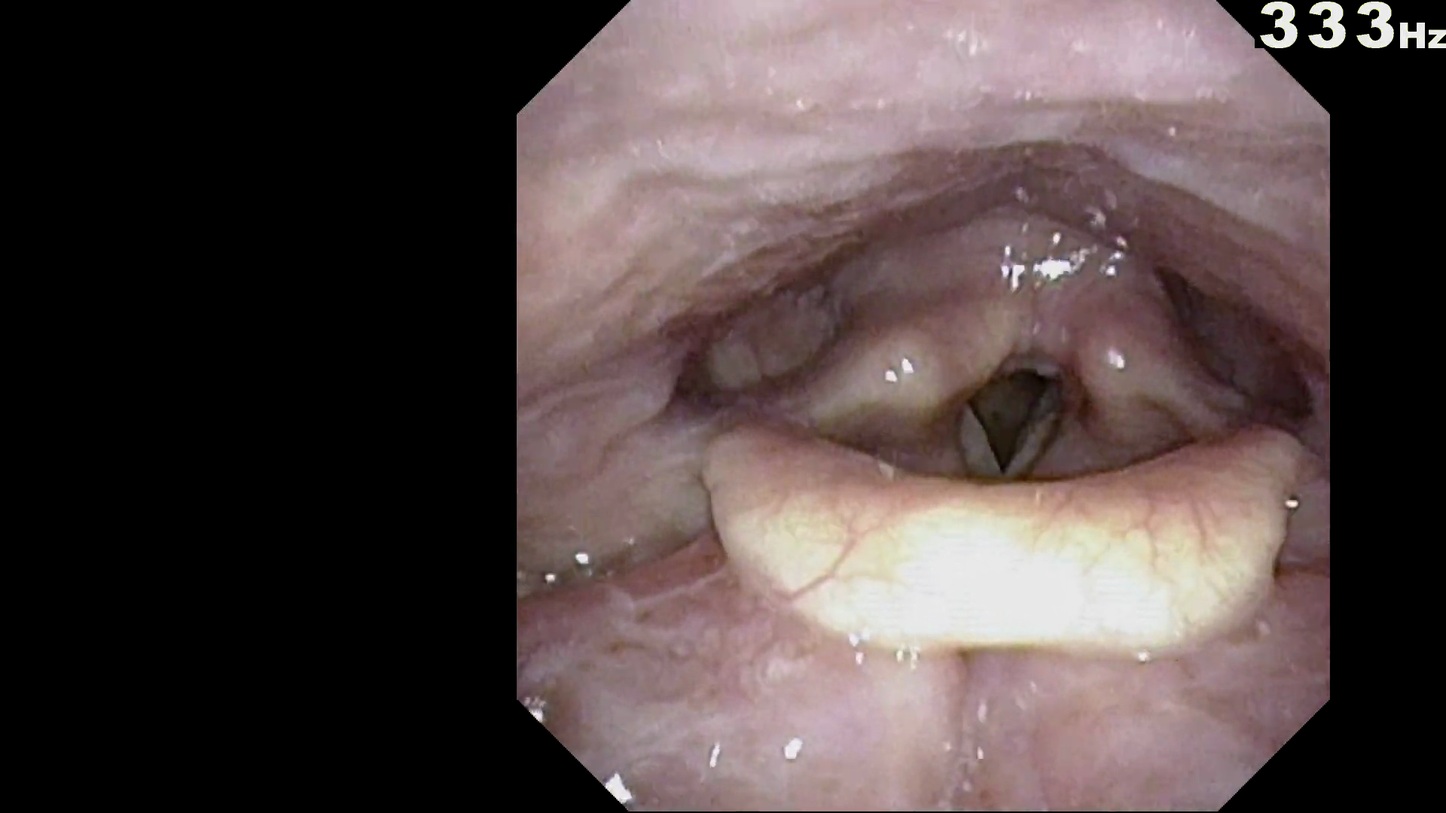epiglottis: (692, 407, 1306, 671)
trachea: (930, 332, 1098, 525)
